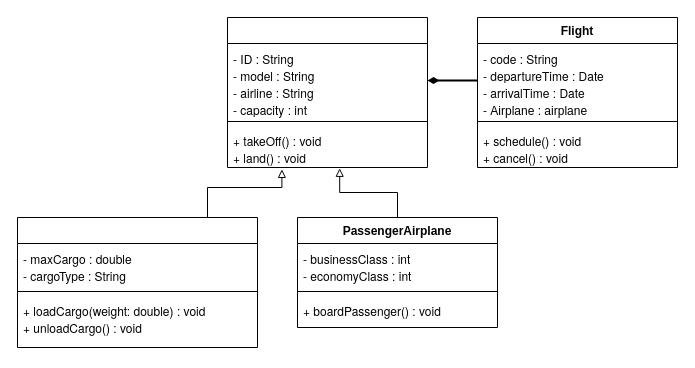
The diagram is 695 pixels wide and 368 high, and some of its shapes have lost their labels. The shapes that lost their labels are listed below. From the top down, each one's box as (x1, y1, x2, y2) in pixels, then its label:
(226, 16, 428, 168): Airplane
(16, 216, 258, 348): CargoAirplane
